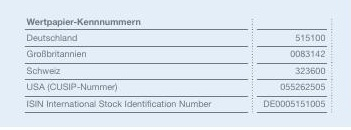table: (0, 0, 351, 130)
